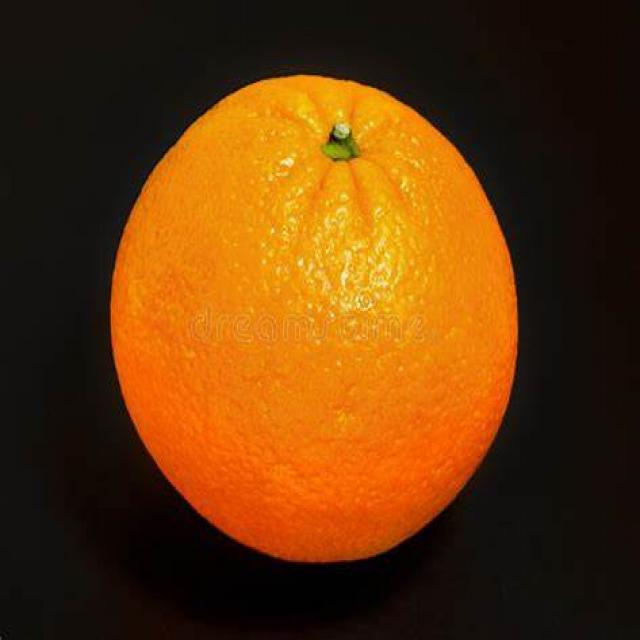Orange: (102, 76, 528, 562)
